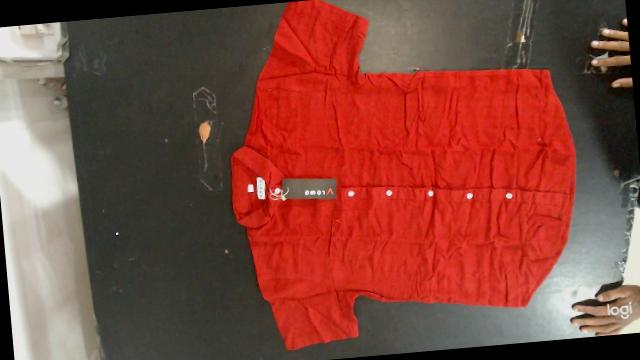new-garment: (231, 0, 576, 349)
